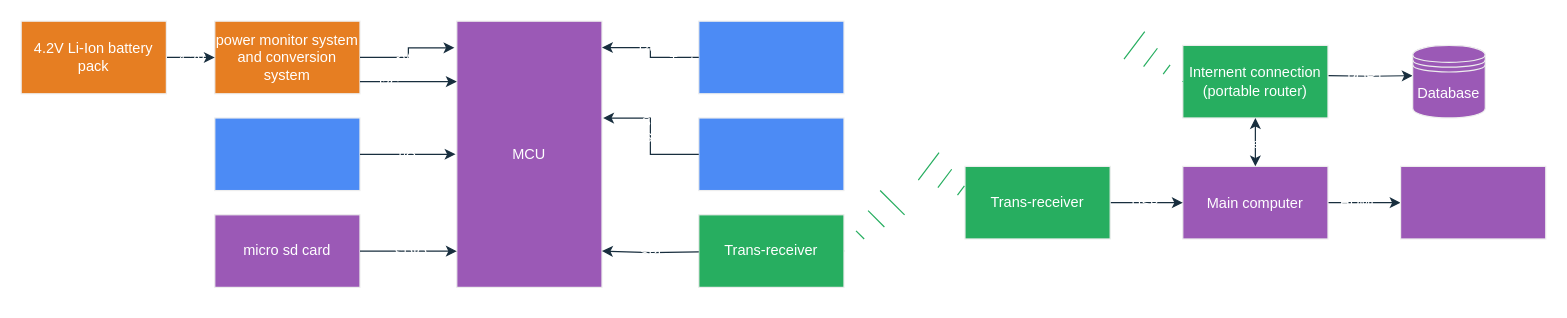
Some shapes in this 1567 by 318 pixel diagram are drawn without their labels. Each missing label, with the centre of its shape:
"Displays with telemetry" belongs at (x=1472, y=202).
"Enviromental sensor" belongs at (x=771, y=57).
"on/off switch and Led's indicator" belongs at (x=287, y=154).
"Position sensors (IMU, GPS)" belongs at (x=771, y=154).
